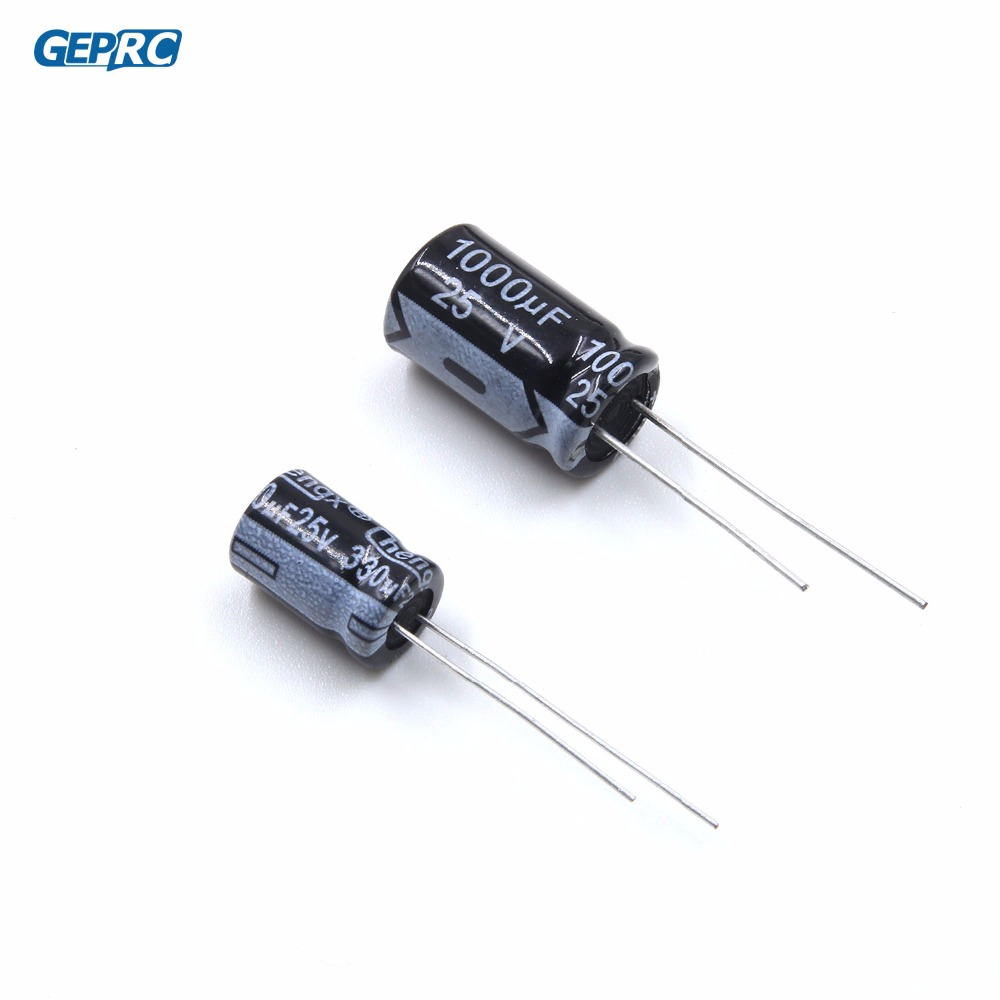capacitor: (352, 203, 721, 525), (202, 437, 513, 707)
